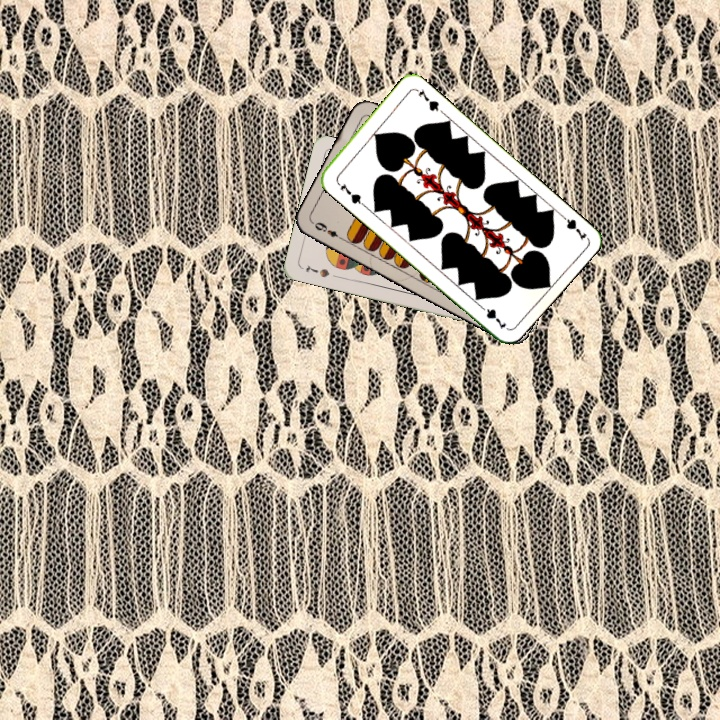E9: (309, 218, 346, 243)
G7: (555, 209, 589, 243), (332, 176, 366, 208)
S7: (302, 260, 332, 280)
